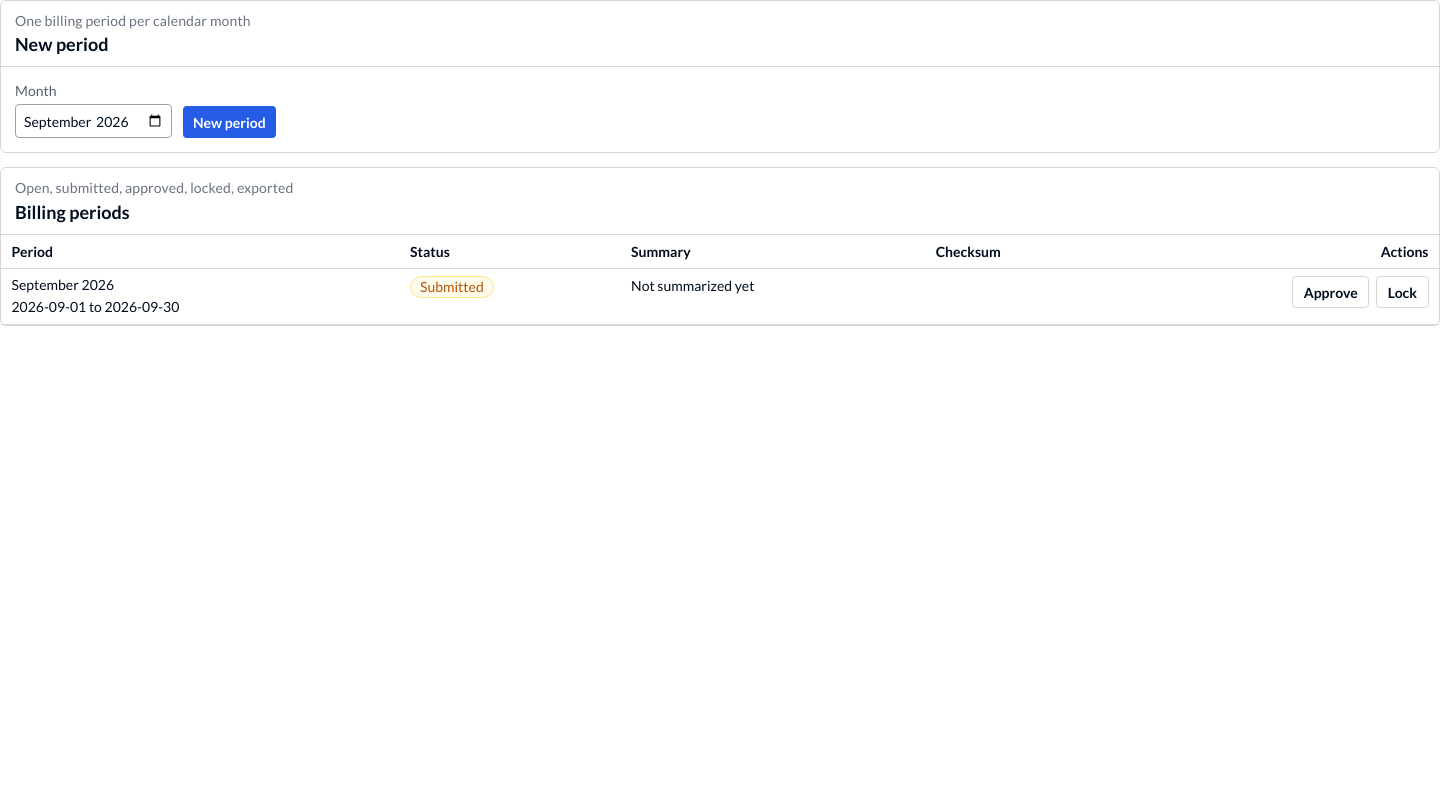
Test: BillingPeriodsTab › offers Approve and Lock to time:lock-period behind a confirm and words stale_version
Expected: the button "Lock" is shown, x1=1376 y1=276 x2=1428 y2=308
Click the button "Approve" at (1331, 292), box x1=1292 y1=276 x2=1369 y2=308
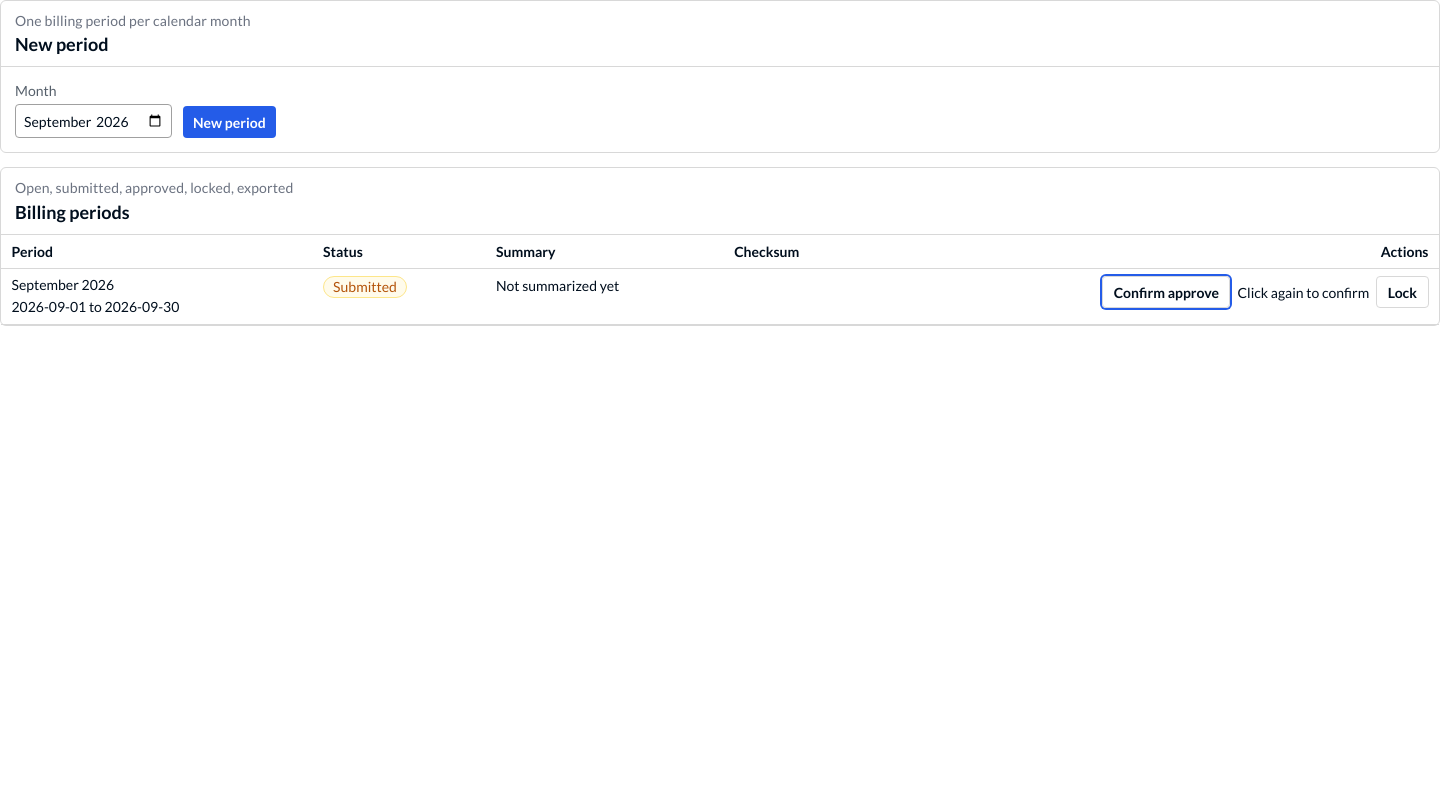
Click the button "Confirm approve" at (1166, 292), box x1=1102 y1=276 x2=1230 y2=308
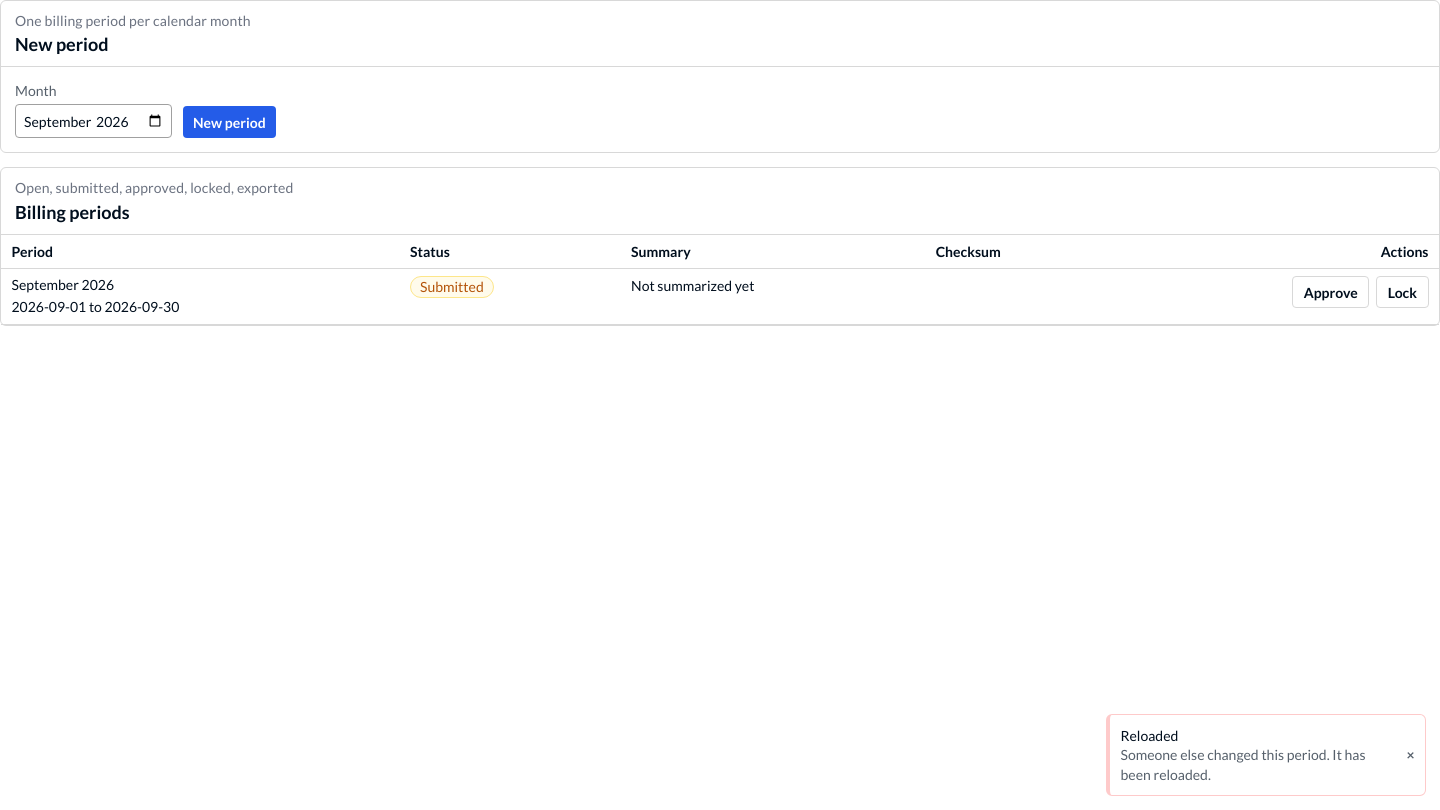
Expected: the text "Reloaded" is shown, x1=1120 y1=727 x2=1178 y2=744
Expected: the text "Someone else changed this period. It has been reloaded." is shown, x1=1120 y1=745 x2=1396 y2=784
